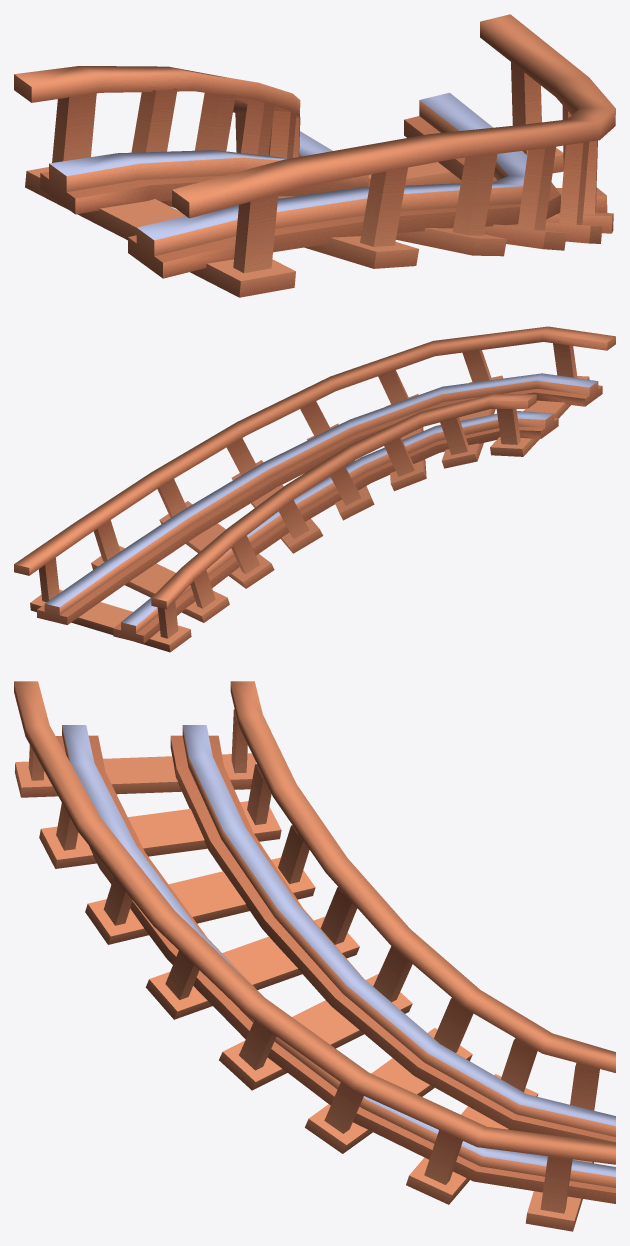
File: coaster-wood-corner-small-ramp.glb
3 views of the same model, one above another, from view 1: azimuth 30°, elevation 25°; view 2: azimuth 150°, elevation 25°; view 3: azimuth 270°, elevation 25° (orthographic). The views are drawn at different scales.
Visible parts, largest first — view 1: coaster-wood-corner-small-ramp; view 2: coaster-wood-corner-small-ramp; view 3: coaster-wood-corner-small-ramp.
Boxes of the visible parts, <box> form: coaster-wood-corner-small-ramp: <box>14,14,615,297</box>; coaster-wood-corner-small-ramp: <box>14,326,615,652</box>; coaster-wood-corner-small-ramp: <box>14,681,615,1231</box>.
Bounding box in the file's own units: 7.5 × 4.08 × 7.5.
1 material, 1 textured.
